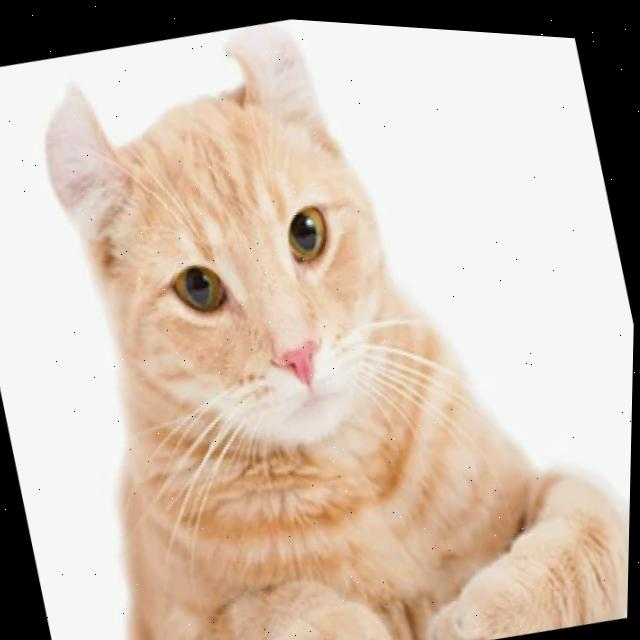American Curl: (7, 1, 640, 640)
